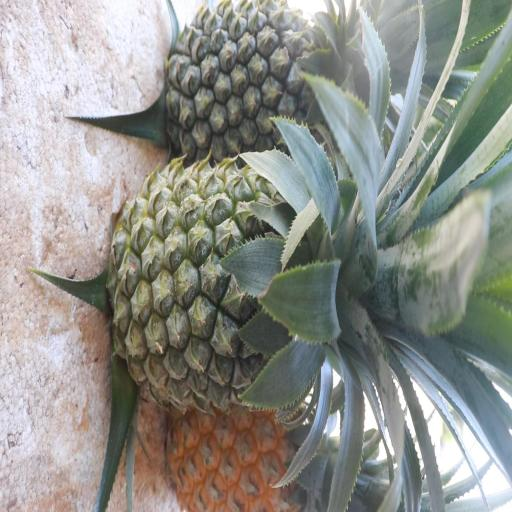------------------------------: (118, 165, 342, 398)
Pineapple - v8 v1: (169, 397, 335, 512)
